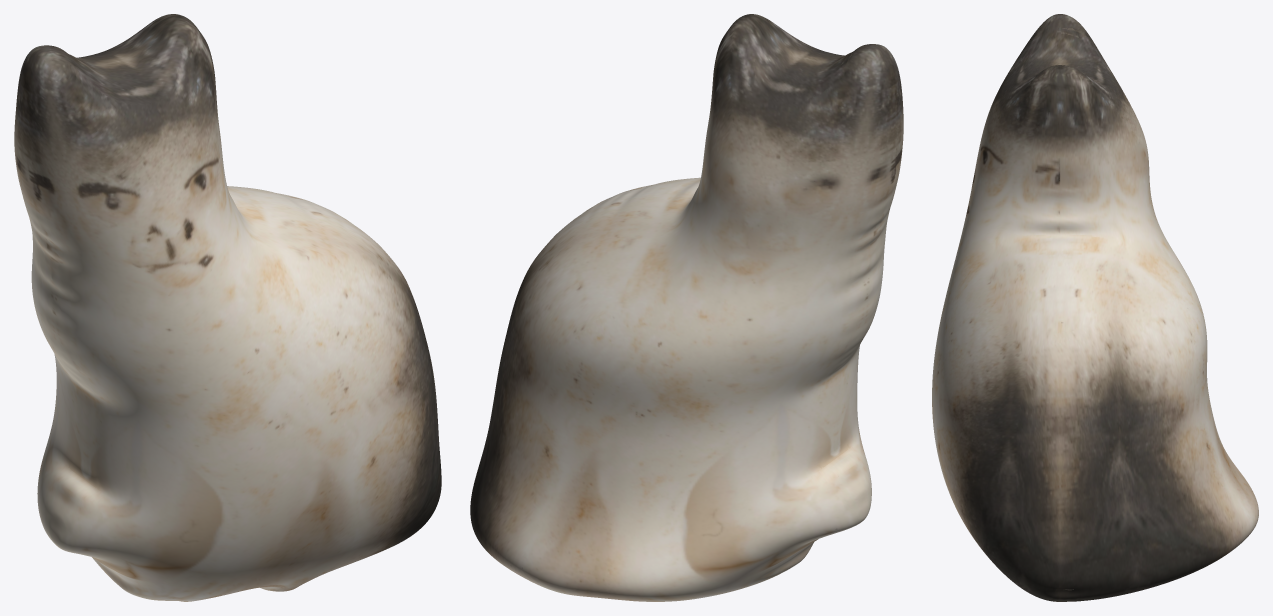
The model's file is Katze_29404.202.glb.
3 views of the same model, side by side, from view 1: azimuth 30°, elevation 25°; view 2: azimuth 150°, elevation 25°; view 3: azimuth 270°, elevation 25° (orthographic). The views are drawn at different scales.
Visible parts, largest first — view 1: Katze; view 2: Katze; view 3: Katze.
Boxes of the visible parts, x1=… form: Katze: x1=14, y1=14, x2=441, y2=601; Katze: x1=470, y1=14, x2=903, y2=601; Katze: x1=932, y1=14, x2=1258, y2=601.
Bounding box in the file's own units: 0.0517 × 0.0702 × 0.0453.
1 material, 1 textured.
